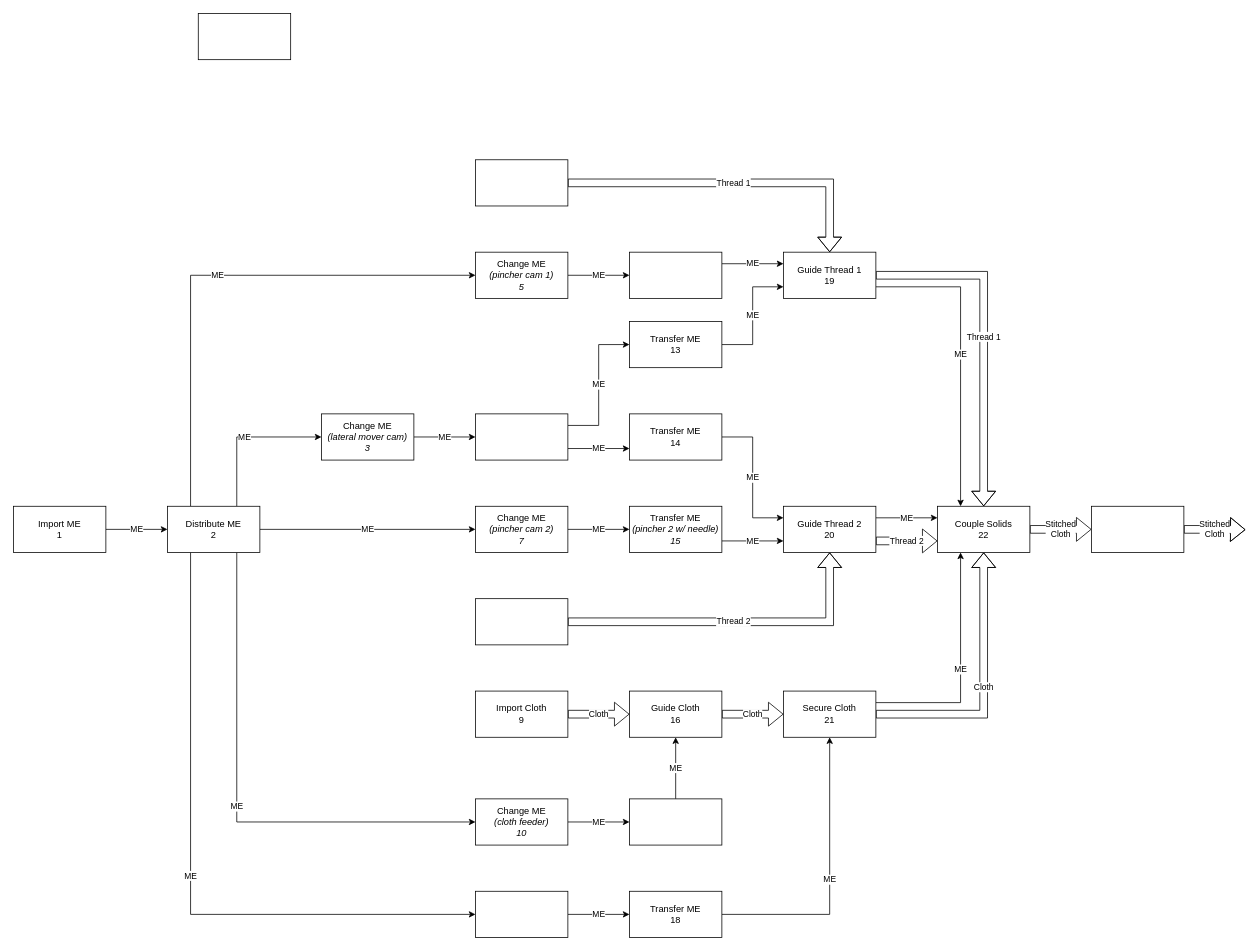
Some shapes in this 1259 by 951 pixel diagram are drawn without their labels. Here are the shapes that lost their labels. From the top down, the centre of each, then its label:
(244,36): Import Thread 1
(521,182): Import Thread 1 4
(675,274): Transfer ME (pincher 1 w/ needle) 12
(521,436): Distribute ME 6
(1137,529): Export Solid 23
(521,621): Import Thread 2 8
(675,821): Transfer ME 17
(521,914): Change ME (cloth pawl) 11
